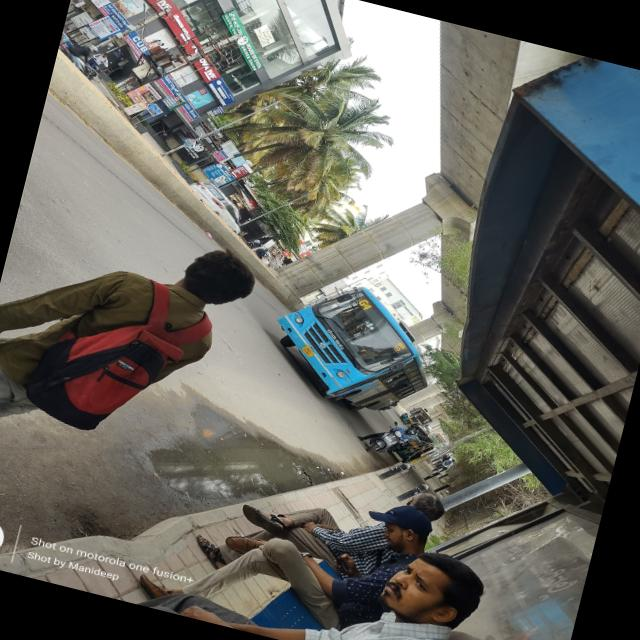bus: (260, 267, 446, 423)
display: (346, 292, 418, 354)
dnumber: (358, 295, 377, 313)
